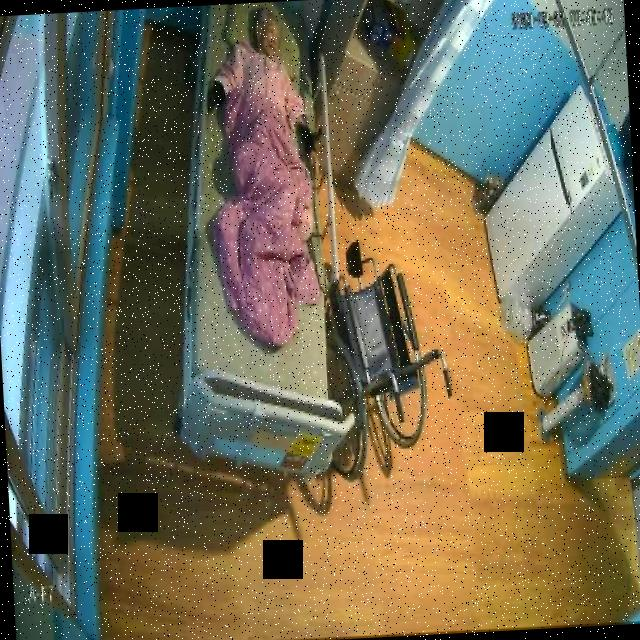bed: (161, 0, 343, 476)
lie: (200, 2, 326, 354)
patient: (202, 1, 322, 157)
